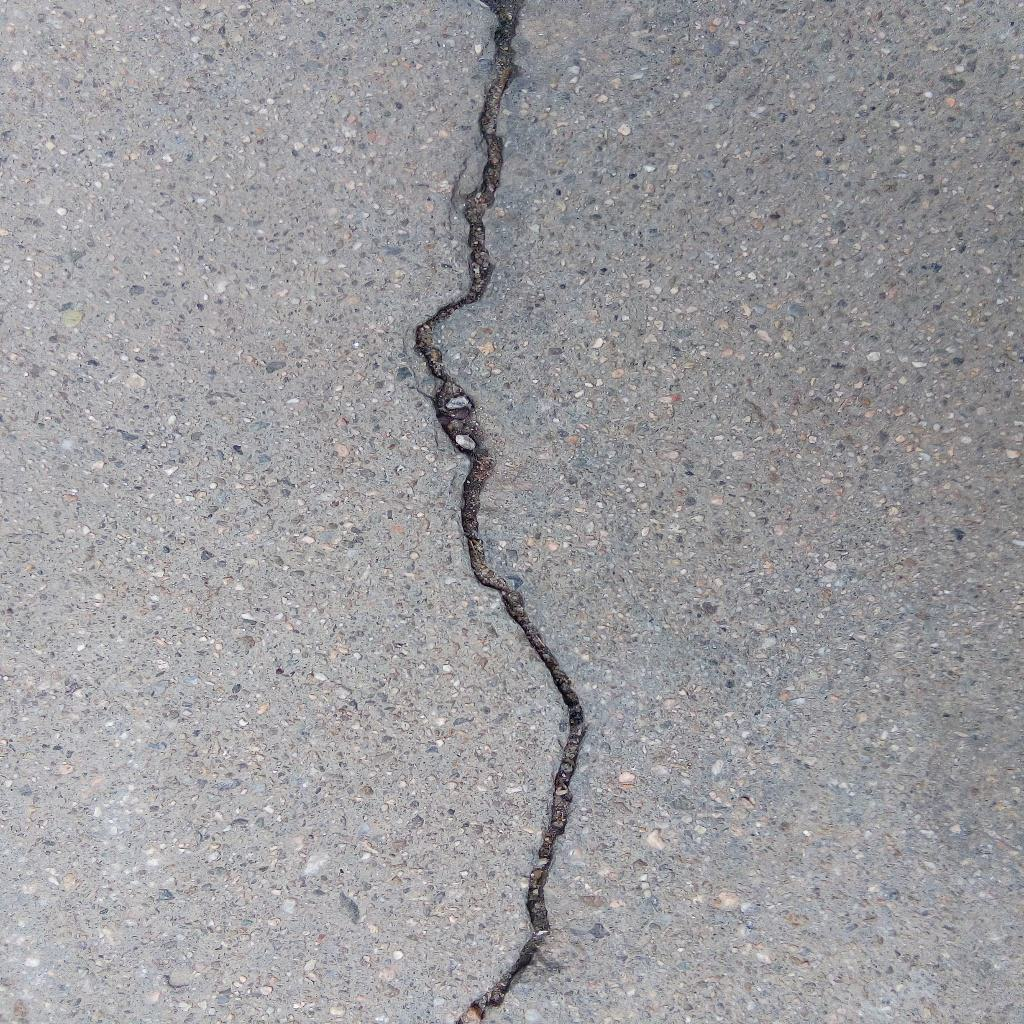Crack: (413, 1, 588, 1024)
